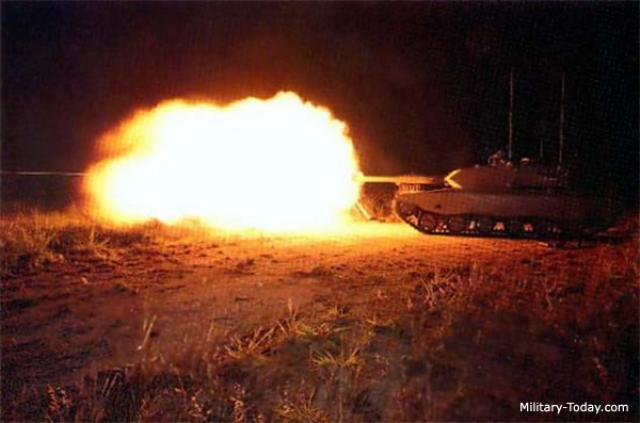other: (491, 147, 504, 164), (520, 150, 532, 164)
tank: (388, 165, 620, 230)
